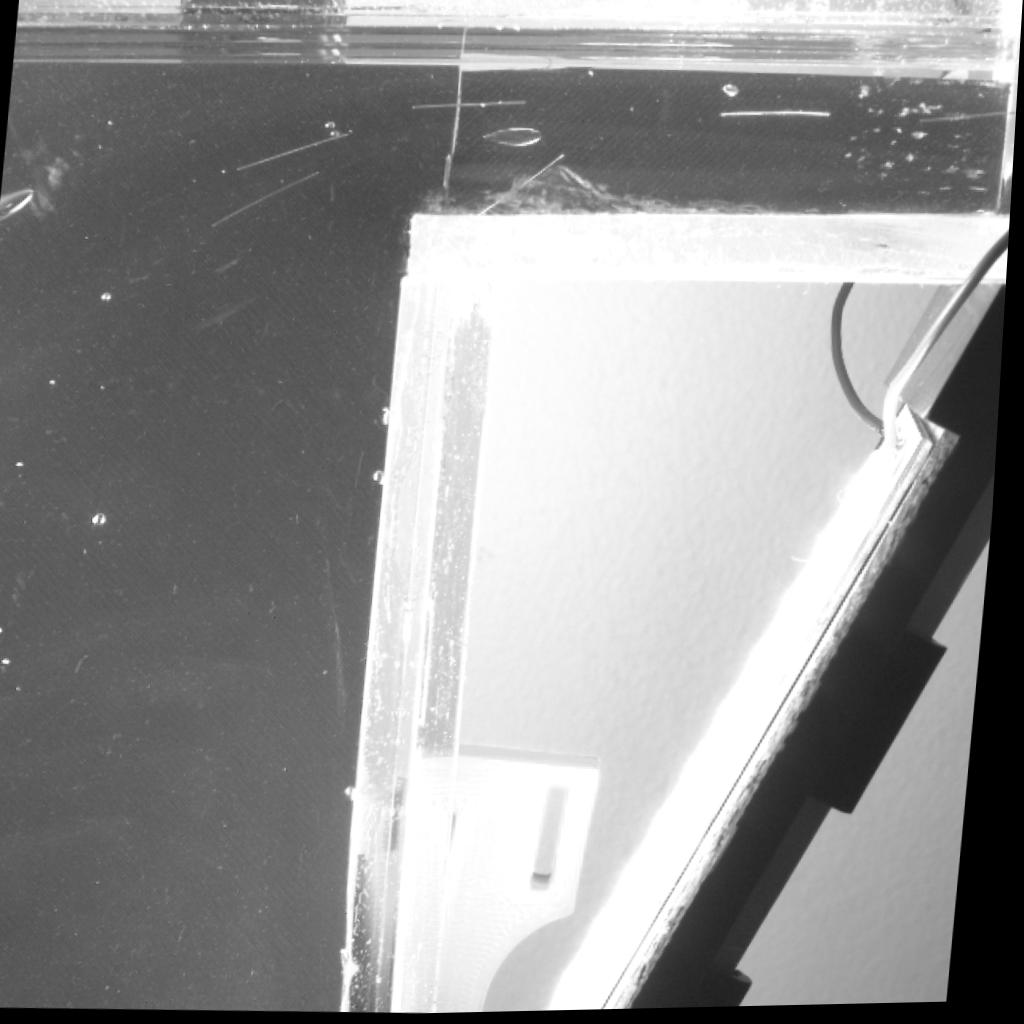Fiber: (449, 152, 573, 242), (213, 168, 324, 232), (242, 130, 353, 174), (918, 108, 1018, 129), (408, 99, 528, 110), (718, 113, 831, 120)
